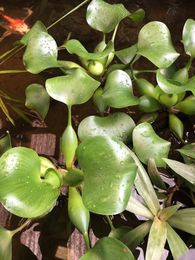water_hyacinth: (0, 0, 195, 260)
